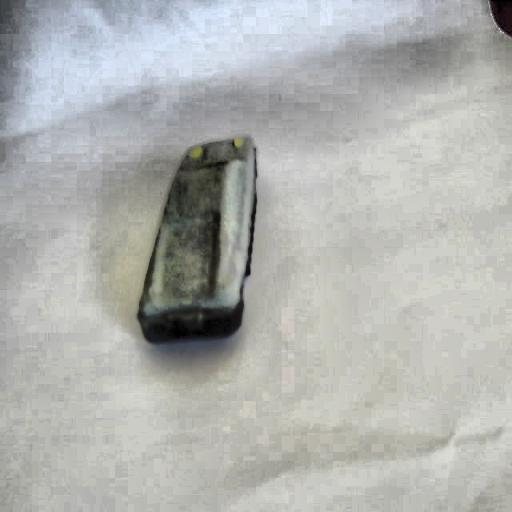normal_car: (132, 132, 263, 349)
